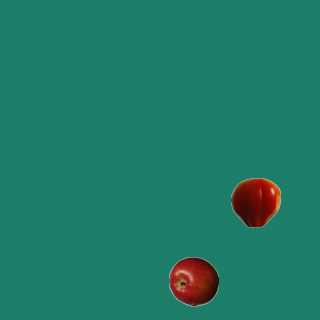Apple Braeburn: (168, 256, 218, 306)
Tomato 1: (230, 177, 280, 227)
